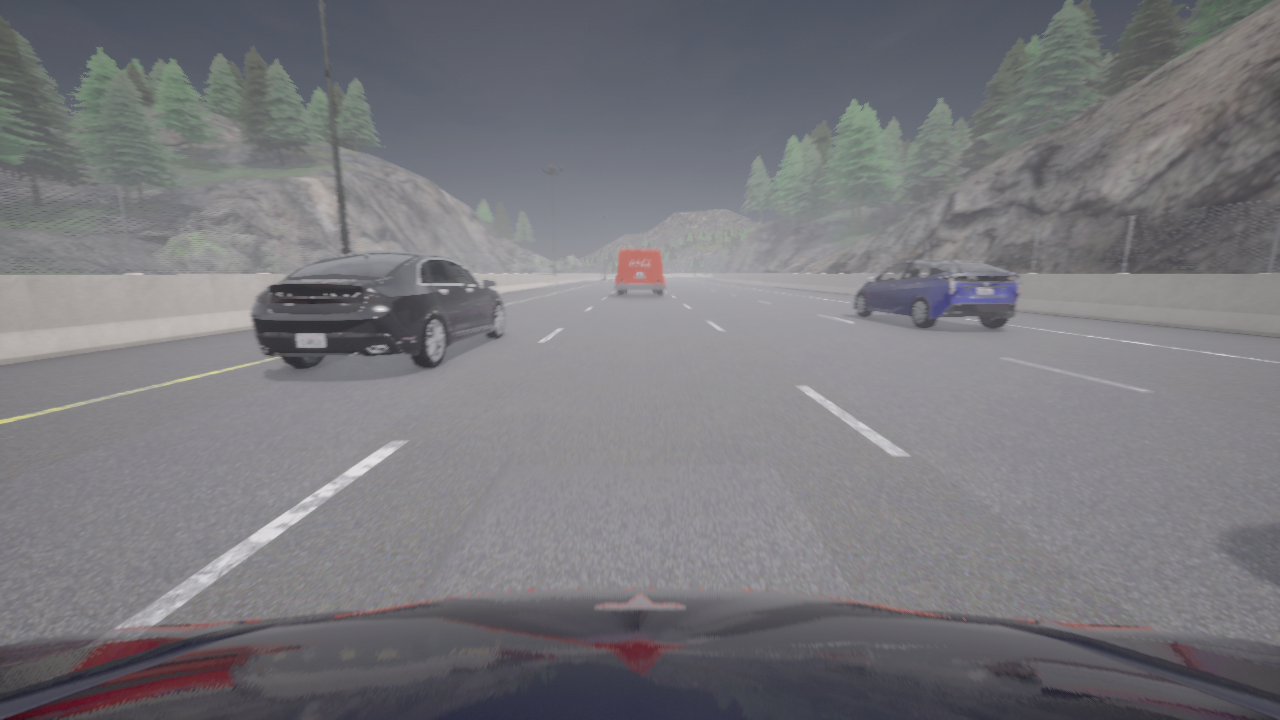cyclist: (0, 588, 1279, 719), (251, 251, 505, 368), (853, 260, 1020, 328), (615, 249, 664, 295)
